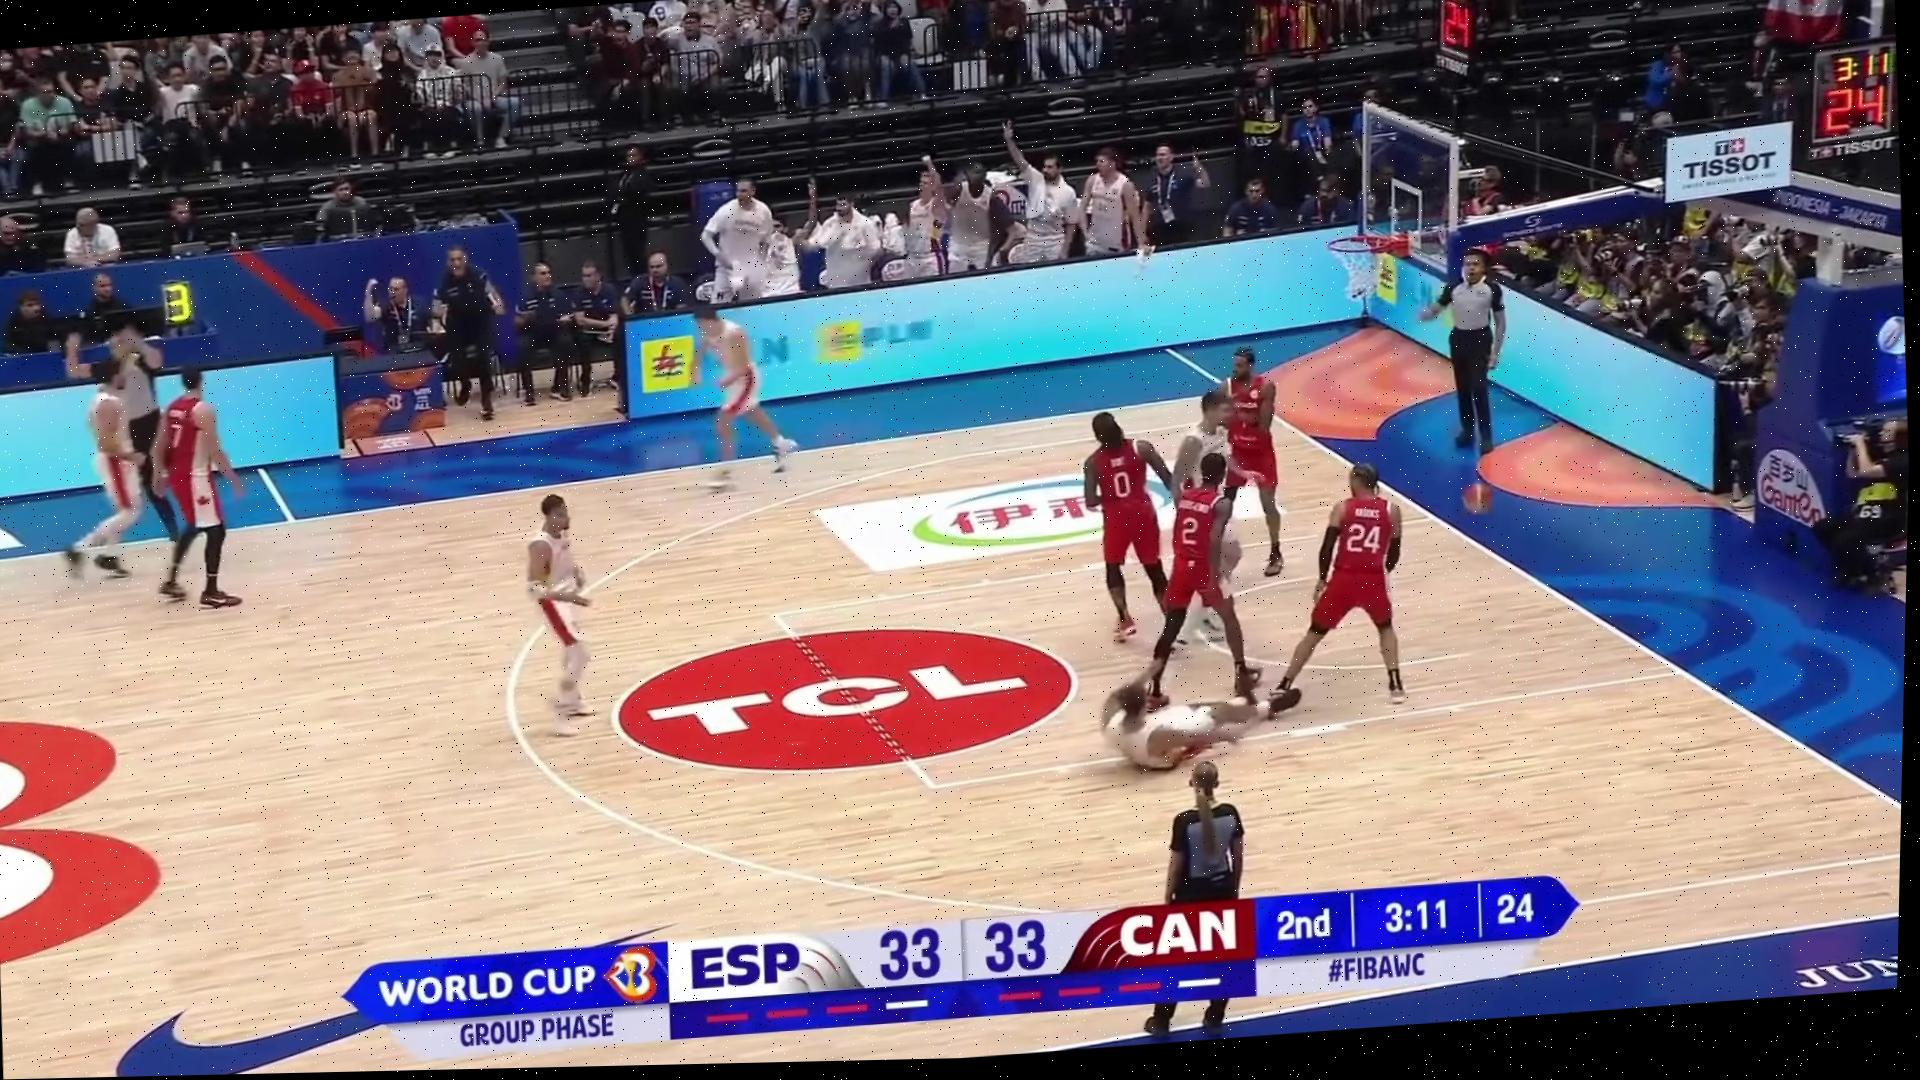foul: (1064, 480, 1423, 774)
